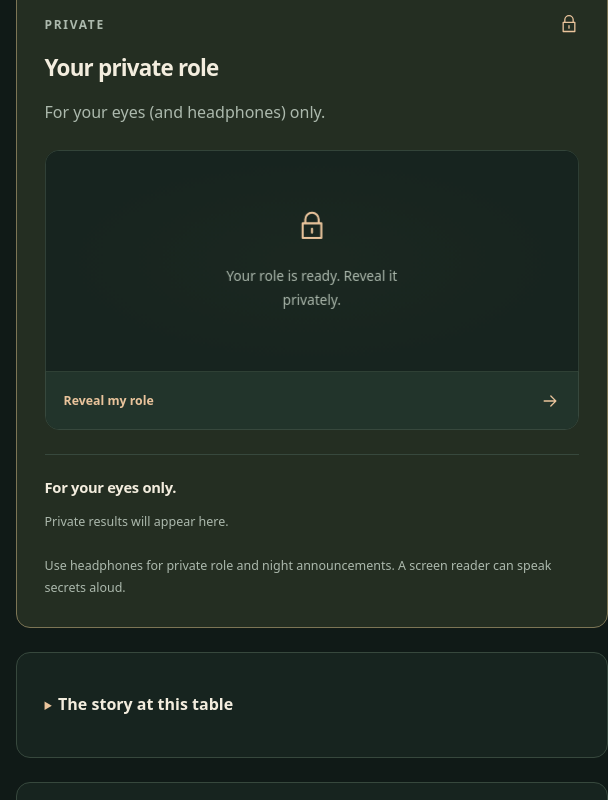
Test: reveals roles only on request and preserves reveal state when switching language
This screenshot has width=608, height=800.
Later steps or results of the test are not shown.
(page scrolled)
Expected: the text "Doctor · Citizen" is not shown
Click the button "Reveal my role". click: {"x": 109, "y": 401}
box: 46,371 -> 578,429
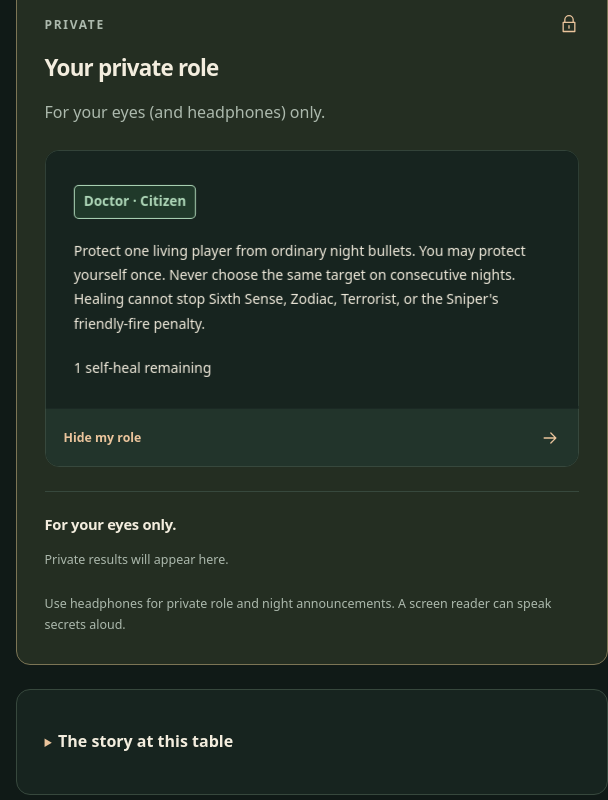
Result: the text "Doctor · Citizen" is shown at 73,185 -> 196,218
